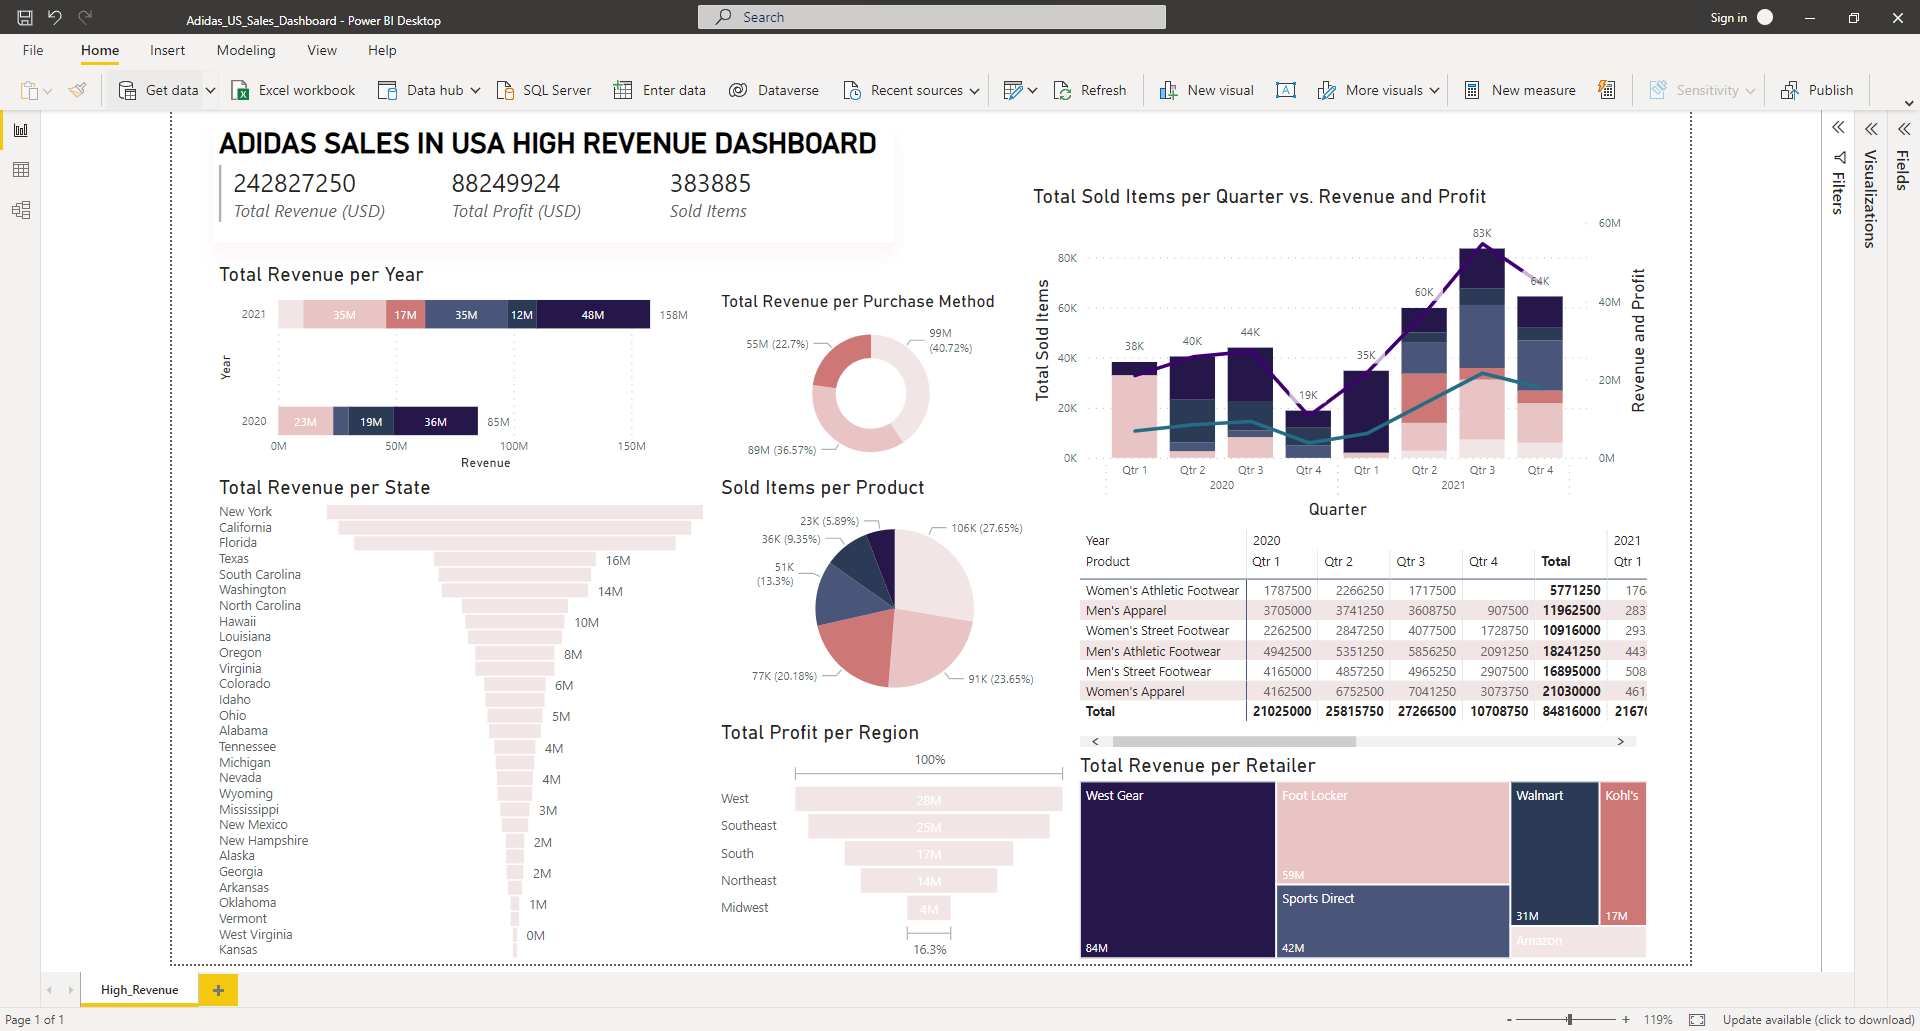

What the dashboard file says about the page in this screenshot:
{"tool":"powerbi","page":{"name":"High_Revenue","canvas":[1280,720],"ordinal":0},"visuals":[{"type":"barChart","title":"Total Revenue per Year","fields":{"Category":["Adidas_US_Sales_High_Revenue_ETL.Year"],"Y":["Sum(Adidas_US_Sales_High_Revenue_ETL.Revenue)"],"Series":["Adidas_US_Sales_High_Revenue_ETL.Retailer"]},"box":[34.9,128.1,422.7,180],"z":0},{"type":"funnel","title":"Total Revenue per State","fields":{"Category":["Adidas_US_Sales_High_Revenue_ETL.State"],"Y":["Sum(Adidas_US_Sales_High_Revenue_ETL.Revenue)"]},"box":[34.9,308.1,422.7,412.8],"z":1000},{"type":"treemap","title":"Total Revenue per Retailer","fields":{"Values":["Sum(Adidas_US_Sales_High_Revenue_ETL.Revenue)"],"Group":["Adidas_US_Sales_High_Revenue_ETL.Retailer"]},"box":[760.3,541.8,488.1,178.2],"z":2000},{"type":"donutChart","title":"Total Revenue per Purchase Method","fields":{"Category":["Adidas_US_Sales_High_Revenue_ETL.Method"],"Y":["Sum(Adidas_US_Sales_High_Revenue_ETL.Revenue)"]},"box":[457.6,153.1,263.3,154.9],"z":3000},{"type":"pivotTable","fields":{"Columns":["Adidas_US_Sales_High_Revenue_ETL.InvoiceDate.Variation.Date Hierarchy.Year","Adidas_US_Sales_High_Revenue_ETL.InvoiceDate.Variation.Date Hierarchy.Quarter"],"Rows":["Adidas_US_Sales_High_Revenue_ETL.Product"],"Values":["Sum(Adidas_US_Sales_High_Revenue_ETL.Revenue)"]},"box":[760.3,349.3,488.1,192.5],"z":4000},{"type":"multiRowCard","title":"ADIDAS SALES IN USA HIGH REVENUE DASHBOARD","fields":{"Values":["Sum(Adidas_US_Sales_High_Revenue_ETL.Revenue)","Sum(Adidas_US_Sales_High_Revenue_ETL.OP)","Sum(Adidas_US_Sales_High_Revenue_ETL.Quantity)"]},"box":[34.6,14.3,574.1,97],"z":5000},{"type":"pieChart","title":"Sold Items per Product","fields":{"Category":["Adidas_US_Sales_High_Revenue_ETL.Product"],"Y":["Sum(Adidas_US_Sales_High_Revenue_ETL.Quantity)"]},"box":[457.6,308.1,302.7,206],"z":6000},{"type":"lineStackedColumnComboChart","title":"Total Sold Items per Quarter vs. Revenue and Profit","fields":{"Category":["Adidas_US_Sales_High_Revenue_ETL.InvoiceDate.Variation.Date Hierarchy.Year","Adidas_US_Sales_High_Revenue_ETL.InvoiceDate.Variation.Date Hierarchy.Quarter"],"Y":["Sum(Adidas_US_Sales_High_Revenue_ETL.Quantity)"],"Y2":["Sum(Adidas_US_Sales_High_Revenue_ETL.Revenue)","Sum(Adidas_US_Sales_High_Revenue_ETL.OP)"],"Series":["Adidas_US_Sales_High_Revenue_ETL.Retailer"]},"box":[720.9,62.7,527.5,286.6],"z":7000},{"type":"funnel","title":"Total Profit per Region","fields":{"Category":["Adidas_US_Sales_High_Revenue_ETL.Region"],"Y":["Sum(Adidas_US_Sales_High_Revenue_ETL.OP)"]},"box":[457.6,514,302.7,206],"z":8000}]}

Visuals, with their boxes on the page's 1280x720 design canvas (x1, y1, x2, y2). These are canvas units, not pixel positions in the 1920x1031 screenshot, which may show the page scaled, cropped or inside an application window:
"Total Revenue per Year" barChart: 35 128 458 308
"Total Revenue per State" funnel: 35 308 458 721
"Total Revenue per Retailer" treemap: 760 542 1248 720
"Total Revenue per Purchase Method" donutChart: 458 153 721 308
pivotTable - Adidas_US_Sales_High_Revenue_ETL.InvoiceDate.Variation.Date Hierarchy.Year x Adidas_US_Sales_High_Revenue_ETL.InvoiceDate.Variation.Date Hierarchy.Quarter: 760 349 1248 542
"ADIDAS SALES IN USA HIGH REVENUE DASHBOARD" multiRowCard: 35 14 609 111
"Sold Items per Product" pieChart: 458 308 760 514
"Total Sold Items per Quarter vs. Revenue and Profit" lineStackedColumnComboChart: 721 63 1248 349
"Total Profit per Region" funnel: 458 514 760 720
